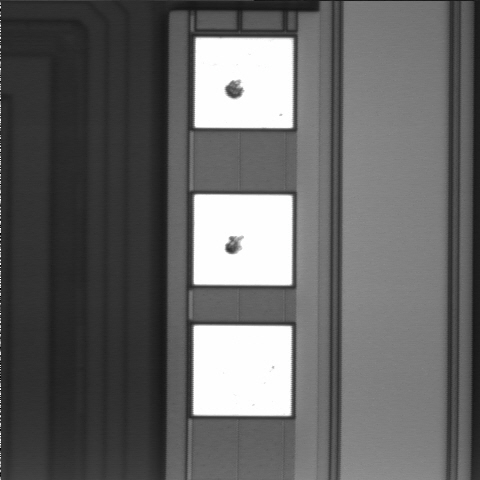pad: (193, 325, 292, 416), (194, 194, 292, 285), (195, 38, 293, 128)
